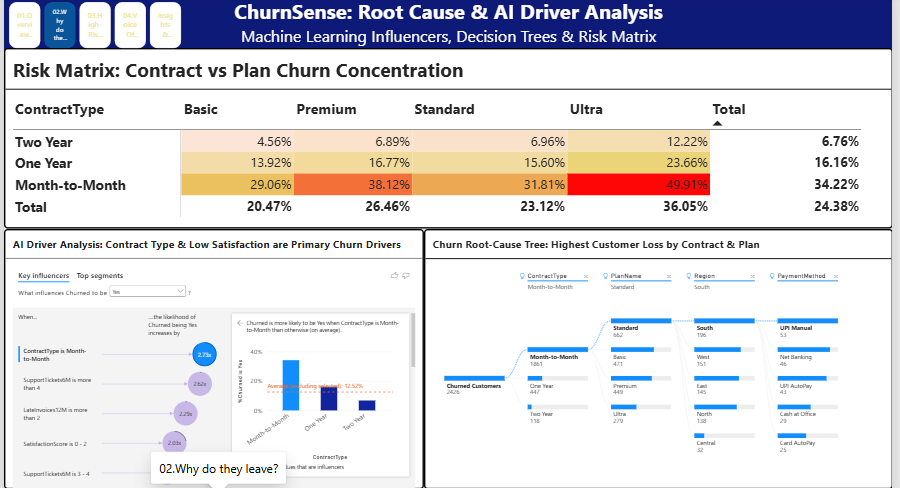

The dashboard page shown, as its layout file describes it:
{"tool":"powerbi","page":{"name":"02.Why do they leave?","canvas":[1920,1080],"ordinal":1},"visuals":[{"type":"keyDriversVisual","title":"AI Driver Analysis: Contract Type & Low Satisfaction are Primary Churn Drivers","fields":{"ExplainBy":["Customers.ContractType","Customers.PlanName","Customers.PaymentMethod","Customers.OTTAddon","Customers.SupportTickets6M","Customers.LateInvoices12M","Customers.SatisfactionScore","Customers.Age","Customers.AgeGroup","Customers.MonthlyCharge","Customers.AvgMonthlyDataGB","Customers.Gender"],"Target":["Customers.Churned"]},"box":[0,501.4,907.1,561.9],"z":0},{"type":"shape","title":"ChurnSense: Root Cause & AI Driver Analysis","box":[0,0,1920,123.5],"z":1000},{"type":"decompositionTreeVisual","title":"Churn Root-Cause Tree: Highest Customer Loss by Contract & Plan","fields":{"Analyze":["_Measure.Churned Customers"],"ExplainBy":["Customers.ContractType","Customers.PlanName","Customers.Region","Customers.PaymentMethod"]},"box":[907.1,501.4,1012.9,561.9],"z":2000},{"type":"pivotTable","title":"Risk Matrix: Contract vs Plan Churn Concentration","fields":{"Columns":["Customers.PlanName"],"Rows":["Customers.ContractType"],"Values":["_Measure.Churn Rate %"]},"box":[0,110.9,1920,390],"z":3000},{"type":"pageNavigator","box":[10.1,10.1,372.9,100.8],"z":4001}]}

Visuals, with their boxes in screenshot pixels (x1, y1, x2, y2):
"AI Driver Analysis: Contract Type & Low Satisfaction are Primary Churn Drivers" keyDriversVisual: [2, 224, 421, 484]
"ChurnSense: Root Cause & AI Driver Analysis" shape: [2, 0, 888, 50]
"Churn Root-Cause Tree: Highest Customer Loss by Contract & Plan" decompositionTreeVisual: [421, 224, 888, 484]
"Risk Matrix: Contract vs Plan Churn Concentration" pivotTable: [2, 44, 888, 224]
pageNavigator: [7, 0, 179, 44]
